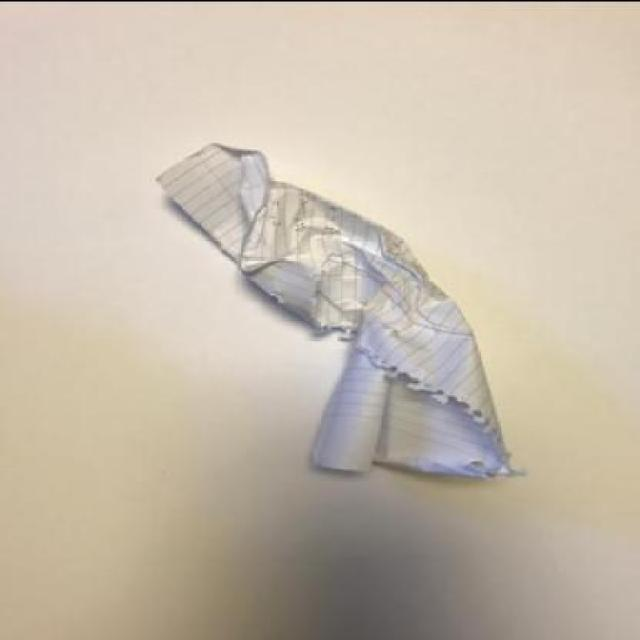E-waste: (154, 140, 526, 481)
